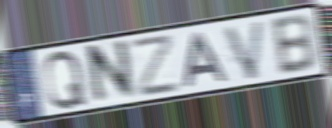A: (182, 30, 231, 89)
B: (268, 12, 319, 78)
N: (87, 37, 137, 108)
Q: (42, 48, 89, 111)
V: (221, 18, 268, 82)
Z: (130, 31, 182, 100)
